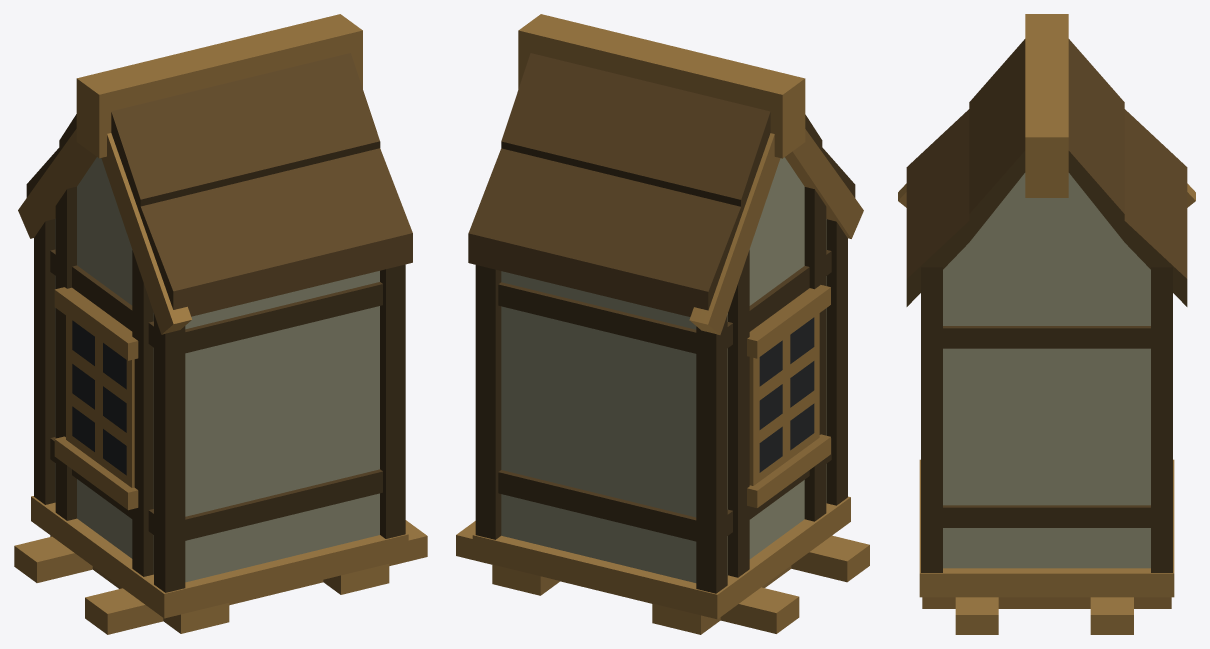
File: SF_Bld_HouseAdd_Window_01.fbx
3 renders of one model, left to right at view 1: azimuth 30°, elevation 25°; view 2: azimuth 150°, elevation 25°; view 3: azimuth 270°, elevation 25°, orthographic. The views are drawn at different scales.
Parts seen in each view (by area): view 1: SF_Bld_HouseAdd_Window_01; view 2: SF_Bld_HouseAdd_Window_01; view 3: SF_Bld_HouseAdd_Window_01.
Part boxes in pixels (box(x1,y1,x2,y2)): SF_Bld_HouseAdd_Window_01: box(14, 14, 427, 634); SF_Bld_HouseAdd_Window_01: box(456, 14, 869, 634); SF_Bld_HouseAdd_Window_01: box(898, 14, 1195, 634).
Bounding box in the file's own units: 4.28 × 6.48 × 3.61.
